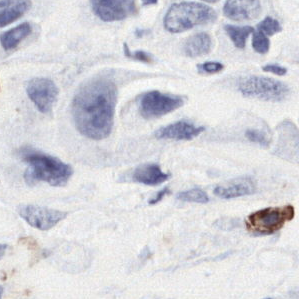Lymphocyte: (245, 205, 295, 233)
